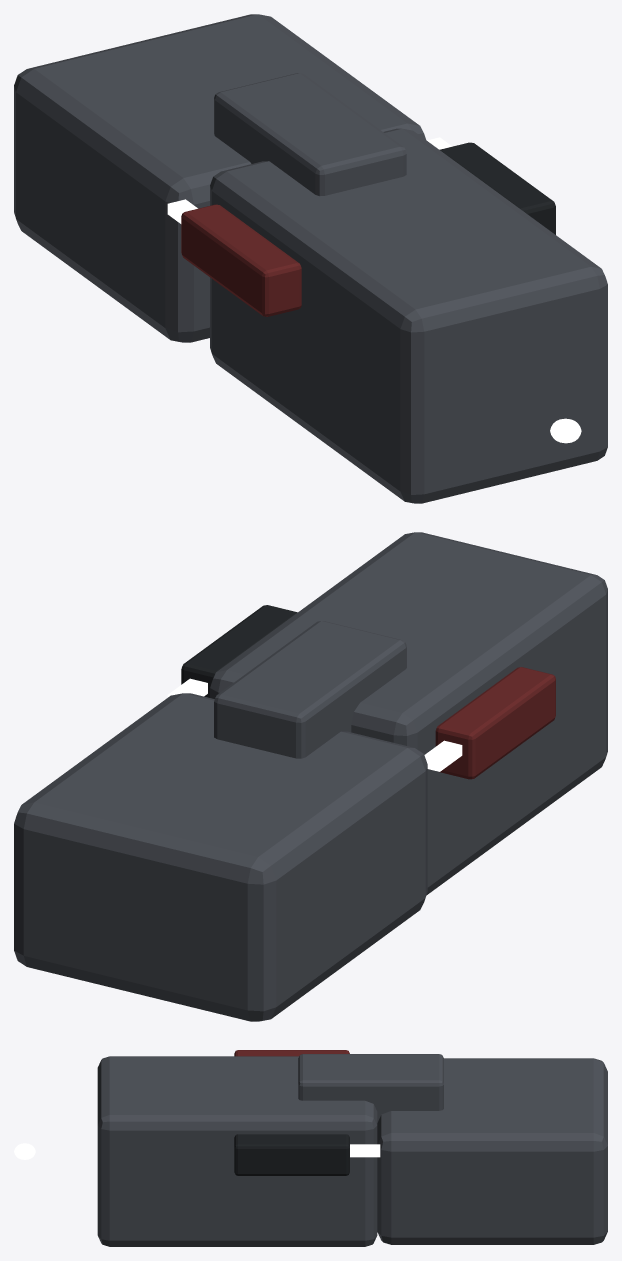
The picture shows the model from 3 angles, top to bottom: view 1: azimuth 30°, elevation 25°; view 2: azimuth 150°, elevation 25°; view 3: azimuth 270°, elevation 25°; orthographic projection. The views are drawn at different scales.
Visible parts, largest first — view 1: RIMWARD_HULL; view 2: RIMWARD_HULL, RIMWARD_EMISSIVE; view 3: RIMWARD_HULL, RIMWARD_EMISSIVE, RIMWARD_ENGINE_GLOW.
Boxes of the visible parts, x1,y1,x2,y2 form: RIMWARD_HULL: [14, 14, 607, 503]; RIMWARD_HULL: [14, 532, 607, 1021]; RIMWARD_EMISSIVE: [167, 678, 462, 771]; RIMWARD_HULL: [97, 1050, 607, 1246]; RIMWARD_EMISSIVE: [350, 1144, 380, 1157]; RIMWARD_ENGINE_GLOW: [14, 1143, 35, 1159].
Size of the model in its own units: 12.11 by 8.74 by 31.3.
